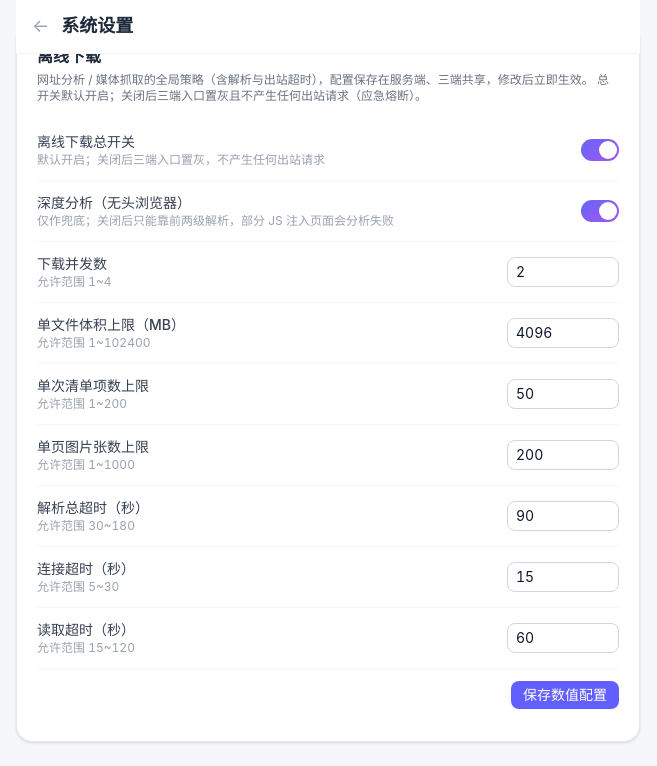
系统设置 · 离线下载全局策略 › 超时越界（解析 10s）被前端拦截，不发任何 PUT
(page scrolled)
Replace the text in the number field named "解析总超时（秒）" with "10" at coordinates (563, 516), box x1=507 y1=501 x2=619 y2=531
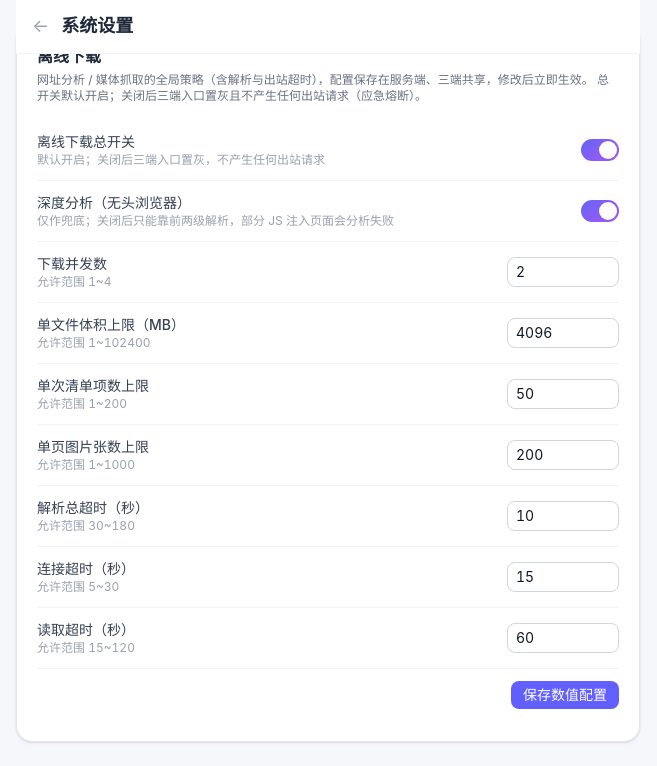
Click the button "保存数值配置" at coordinates (565, 695), box x1=511 y1=681 x2=619 y2=709
(page scrolled)
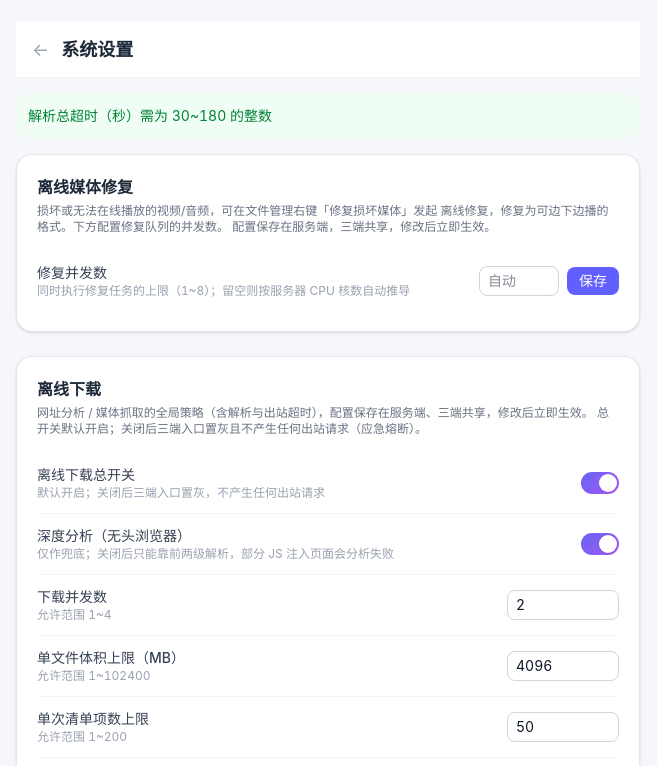
Check: the text "解析总超时（秒）需为 30~180 的整数" is shown, box x1=16 y1=94 x2=640 y2=138
